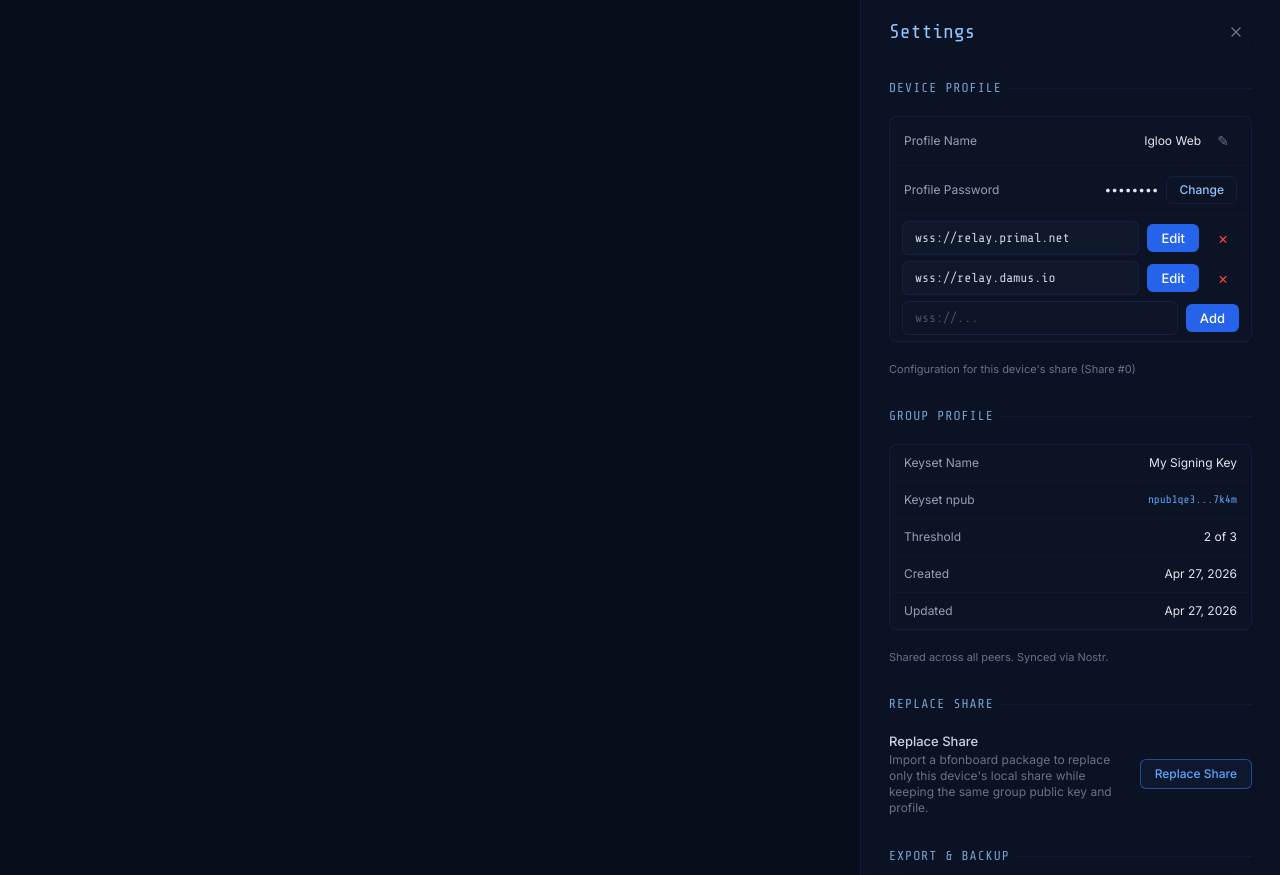
Scenario: SettingsSidebar — Change Password (VAL-SETTINGS-018/019/026/027/028) › shows 'Current password is incorrect' when the mutator rejects with wrong_password (VAL-SETTINGS-019)
Click the button with aria-label "change password" at (1202, 190), box [1166,176,1237,204]
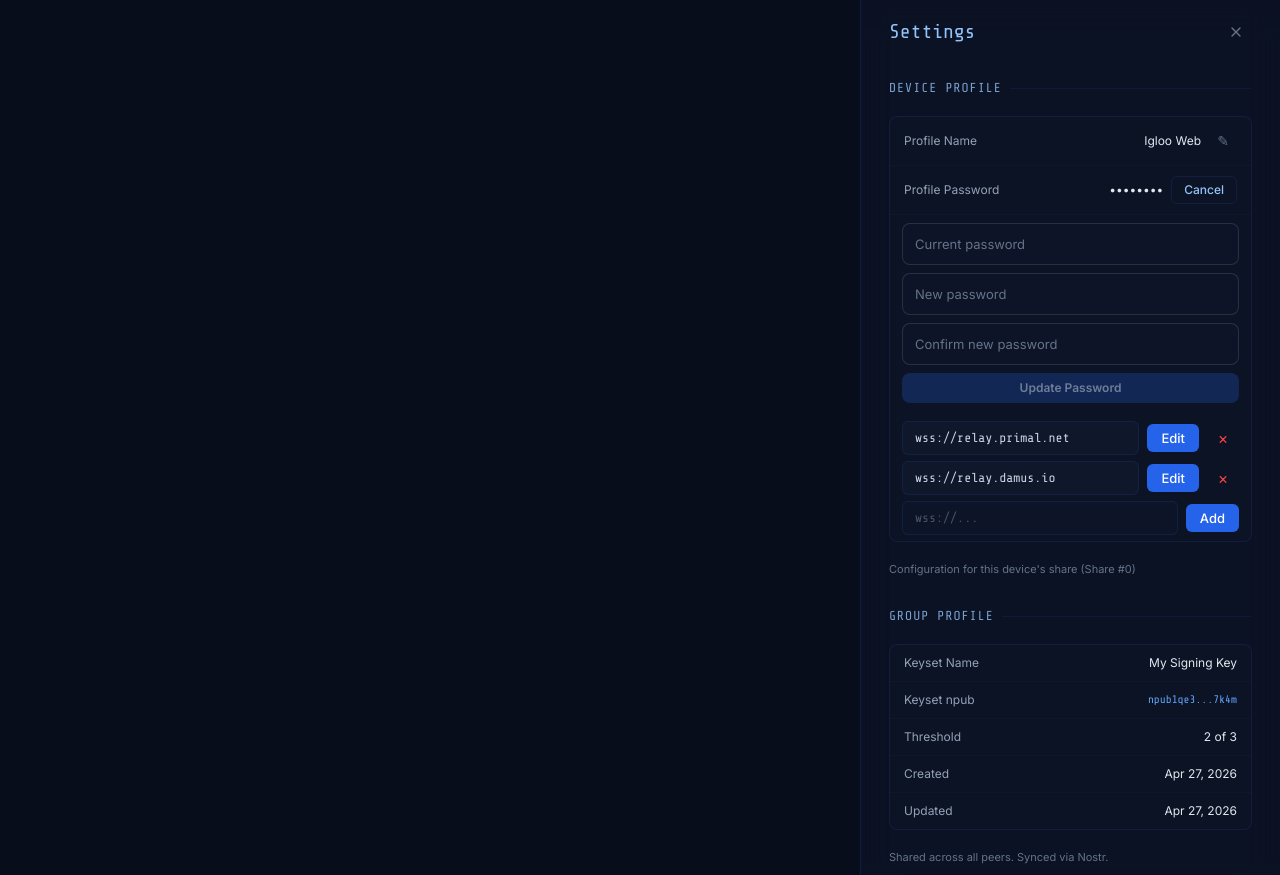
Type "wrongcurrent" into the password field labelled "Current password" at (1070, 244), box [902,223,1239,265]
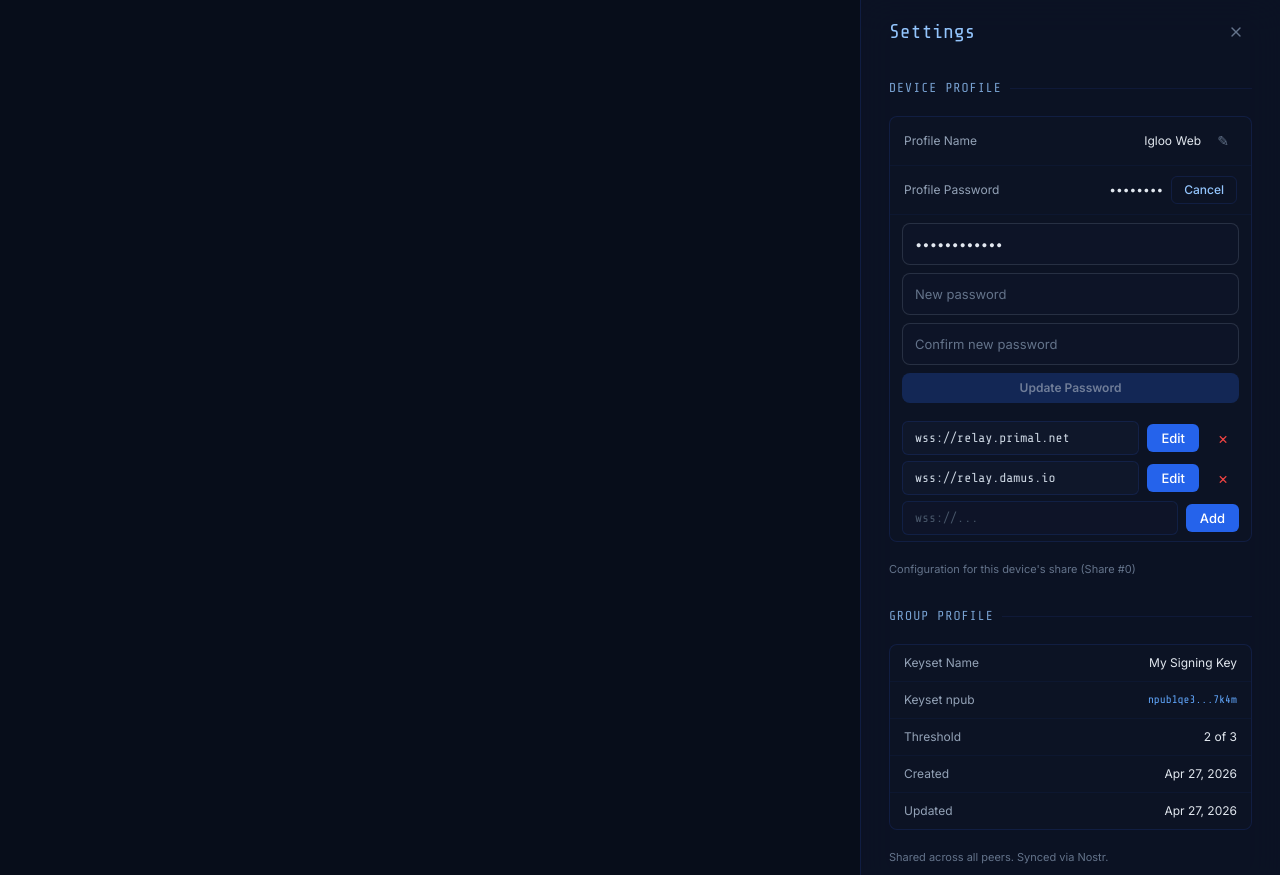
Type "newpass123" into the password field labelled "New password" at (1070, 294), box [902,273,1239,315]
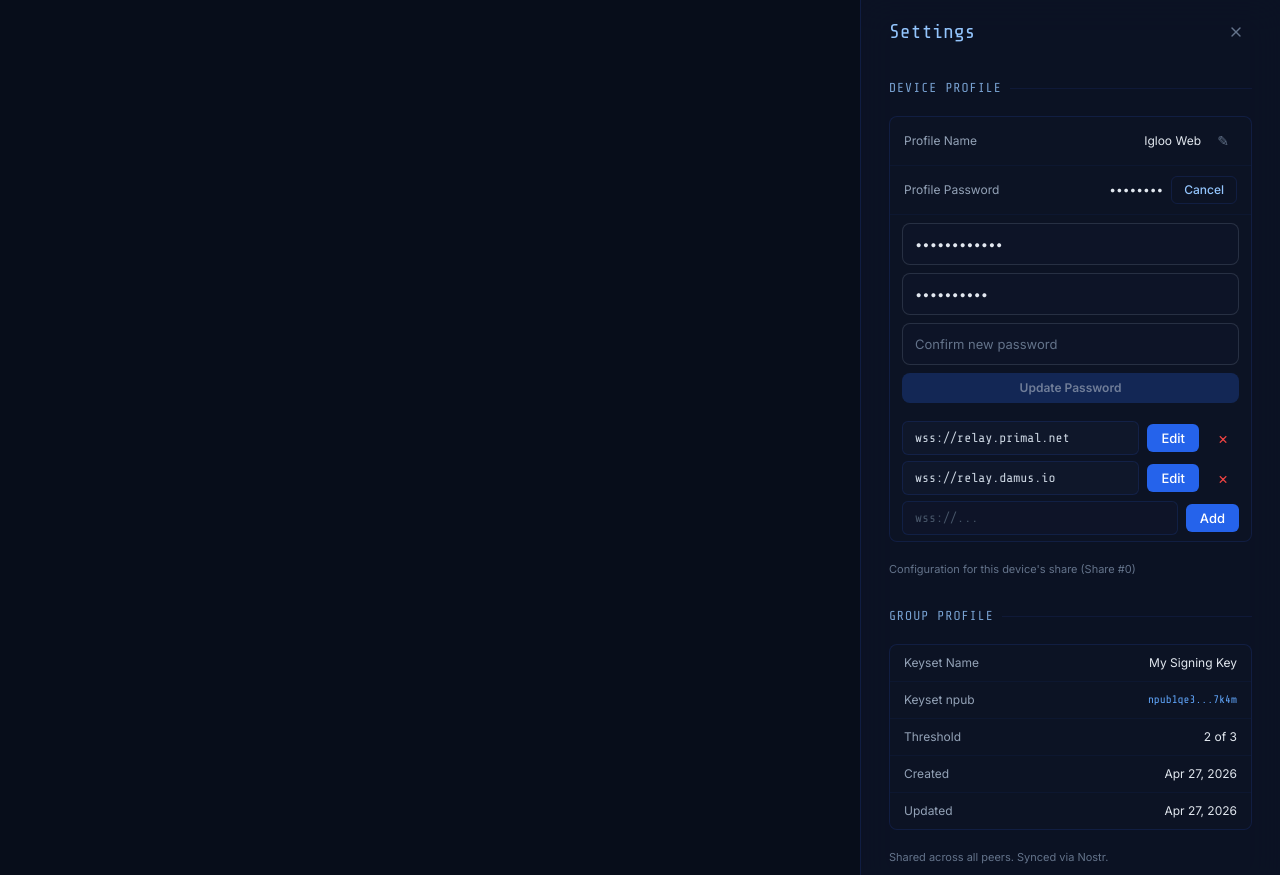
Type "newpass123" into the password field labelled "Confirm new password" at (1070, 344), box [902,323,1239,365]
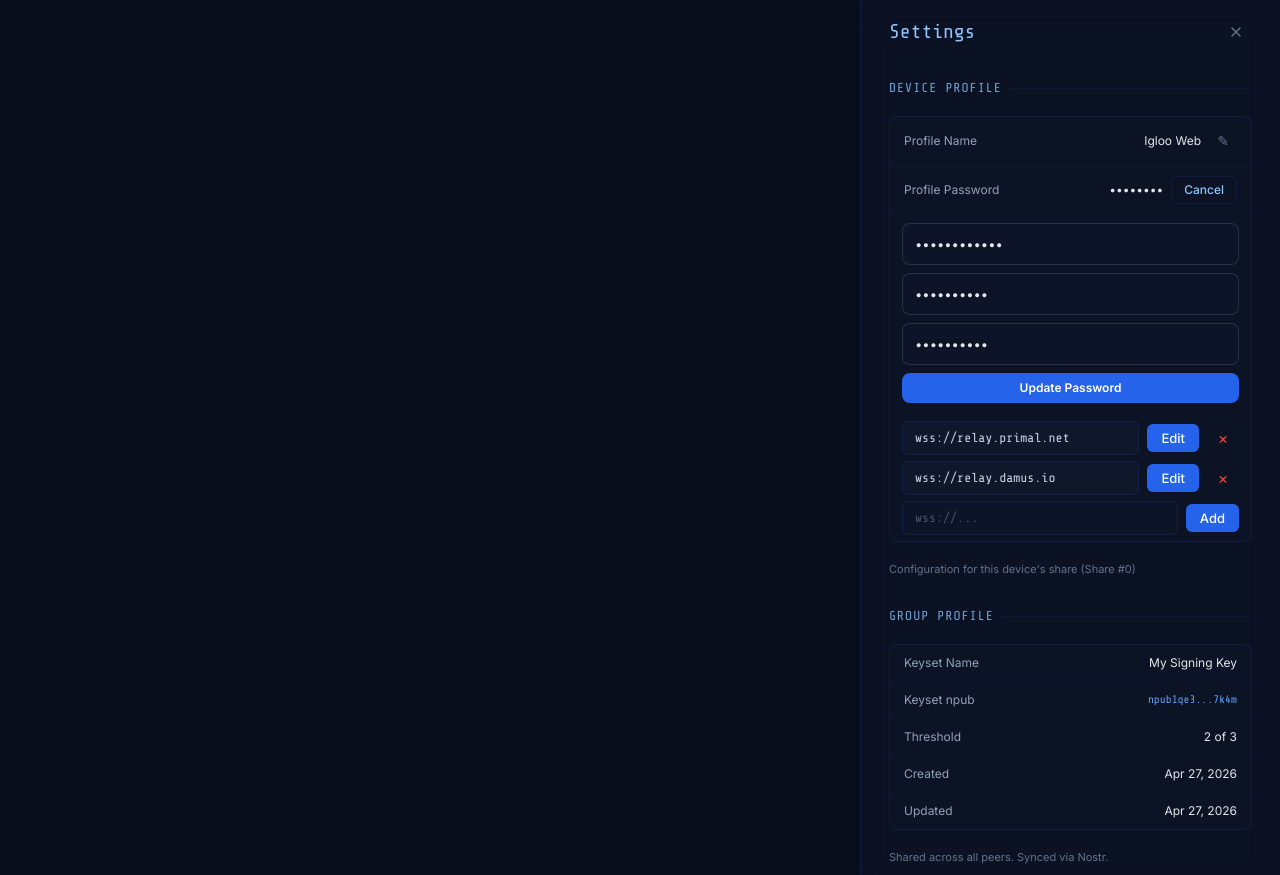
Result: the button "Update Password" is enabled
Click the button "Update Password" at (1070, 388), box [902,373,1239,403]
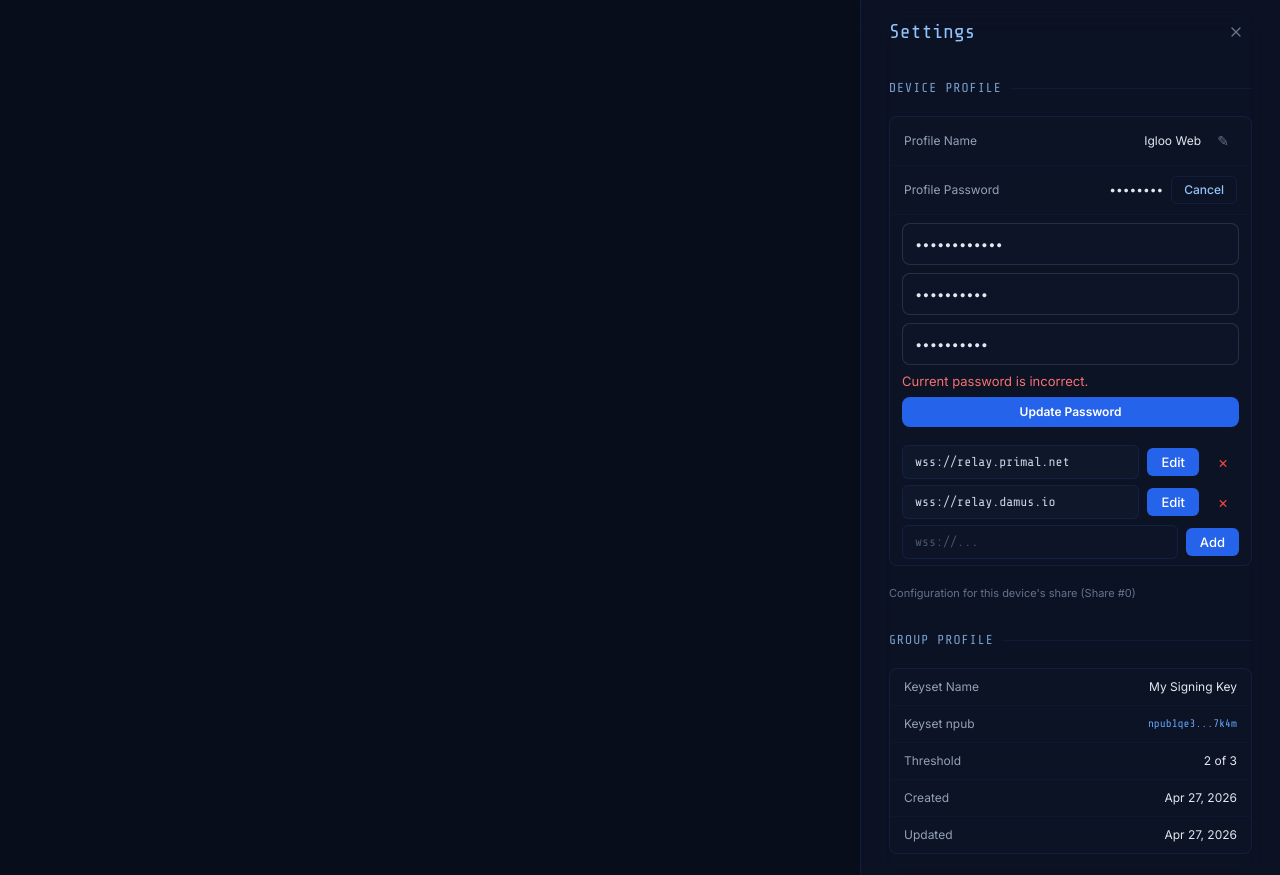
Result: the text "Current password is incorrect." is shown at [902,373,1088,389]
